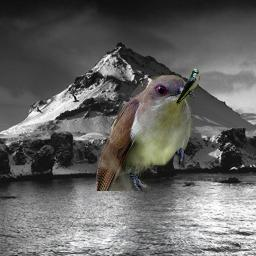Cuckoo: (96, 75, 196, 191)
Swallow: (175, 68, 200, 106)
